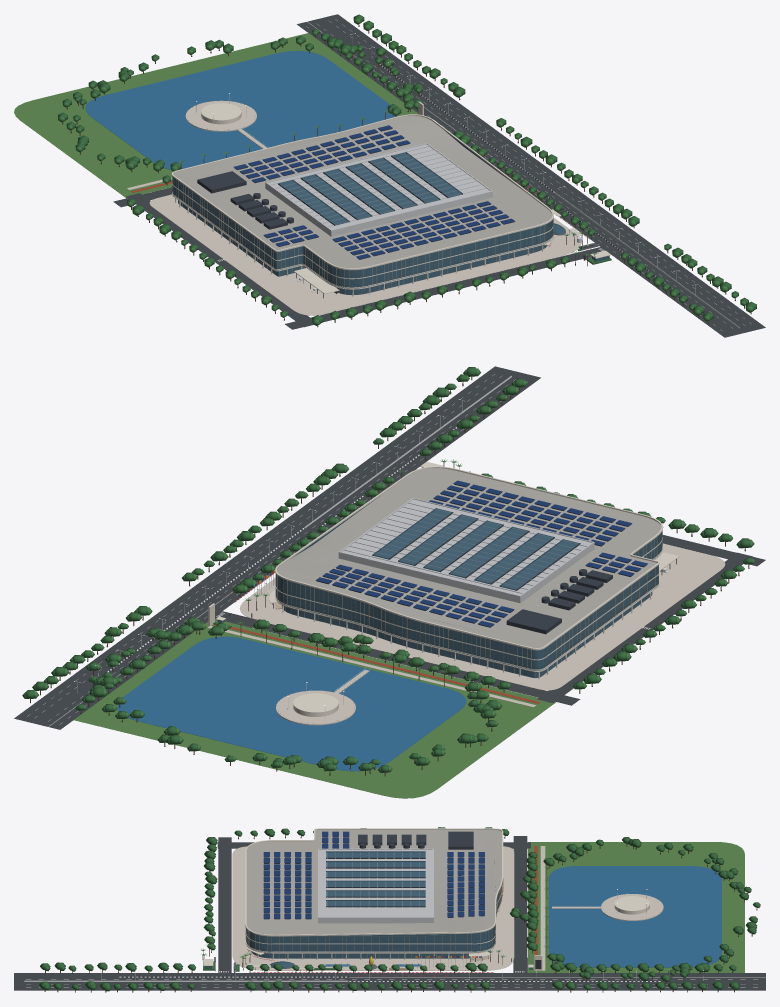
The model's file is venue.glb.
3 renders of one model, top to bottom at view 1: azimuth 30°, elevation 25°; view 2: azimuth 150°, elevation 25°; view 3: azimuth 270°, elevation 25°, orthographic. The views are drawn at different scales.
Visible parts, largest first — view 1: Site_LakeWater, Site_Roads, Exterior_RoofDeck, Site_ParkLawn, Site_Plaza, Exterior_RoofHall, Site_TreeFoliageA, ExteriorGlass_Upper, Exterior_Solar, Site_TreeFoliageB, ExteriorGlass_Skylights, Exterior_Fascia (+9 smaller); view 2: Site_LakeWater, Site_Roads, Exterior_RoofDeck, Site_ParkLawn, Site_TreeFoliageA, Site_Plaza, Exterior_RoofHall, ExteriorGlass_Upper, Exterior_Solar, ExteriorGlass_Skylights, Exterior_Fascia, Site_TreeFoliageB (+8 smaller); view 3: Site_LakeWater, Site_Roads, Exterior_RoofDeck, Site_TreeFoliageA, Site_ParkLawn, Site_Plaza, Exterior_RoofHall, ExteriorGlass_Upper, Exterior_Solar, ExteriorGlass_Skylights, Exterior_Fascia, Exterior_SkylightFrames (+13 smaller).
Boxes of the visible parts, <box> form: Site_LakeWater: <box>85,50,395,169</box>; Site_Roads: <box>113,14,765,337</box>; Exterior_RoofDeck: <box>173,116,552,270</box>; Site_ParkLawn: <box>14,33,418,198</box>; Site_Plaza: <box>127,100,581,315</box>; Exterior_RoofHall: <box>265,143,492,236</box>; Site_TreeFoliageA: <box>58,14,756,322</box>; ExteriorGlass_Upper: <box>172,130,553,288</box>; Exterior_Solar: <box>233,125,515,259</box>; Site_TreeFoliageB: <box>58,18,754,325</box>; ExteriorGlass_Skylights: <box>279,152,462,225</box>; Exterior_Fascia: <box>171,114,553,289</box>; Site_LakeWater: <box>116,636,466,771</box>; Site_Roads: <box>14,366,765,729</box>; Exterior_RoofDeck: <box>277,468,661,650</box>; Site_ParkLawn: <box>74,619,555,798</box>; Site_TreeFoliageA: <box>22,367,752,772</box>; Site_Plaza: <box>207,543,725,725</box>; Exterior_RoofHall: <box>338,498,594,603</box>; ExteriorGlass_Upper: <box>275,496,662,670</box>; Exterior_Solar: <box>315,480,647,626</box>; ExteriorGlass_Skylights: <box>373,508,579,590</box>; Exterior_Fascia: <box>275,466,663,671</box>; Site_TreeFoliageB: <box>34,368,754,772</box>; Site_LakeWater: <box>325,866,721,967</box>; Site_Roads: <box>14,836,765,990</box>; Exterior_RoofDeck: <box>246,830,501,936</box>; Site_TreeFoliageA: <box>39,827,760,991</box>; Site_ParkLawn: <box>528,842,744,972</box>; Site_Plaza: <box>232,846,663,970</box>; Exterior_RoofHall: <box>318,848,433,923</box>; ExteriorGlass_Upper: <box>246,887,501,952</box>; Exterior_Solar: <box>263,831,484,918</box>; ExteriorGlass_Skylights: <box>326,851,425,906</box>; Exterior_Fascia: <box>245,828,503,953</box>; Exterior_SkylightFrames: <box>326,851,425,907</box>.
Bounding box in the file's own units: 363 × 32.28 × 720.
